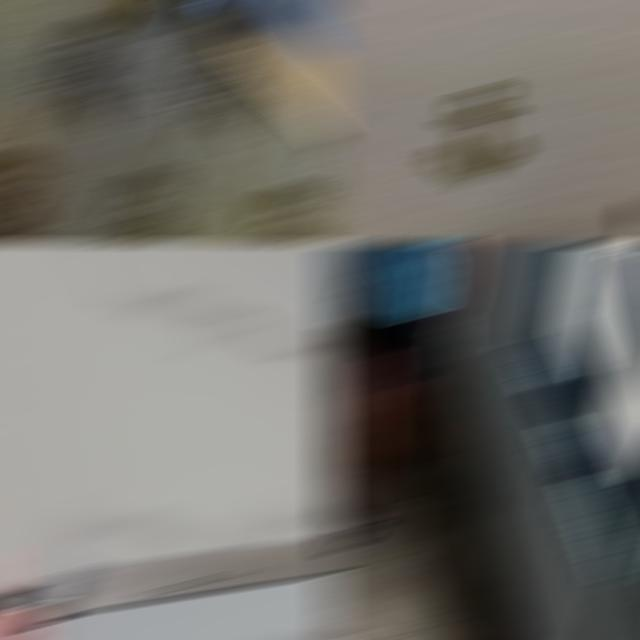Knife: (0, 538, 342, 625), (336, 273, 376, 296)
Knife_Handle: (328, 254, 374, 298)
